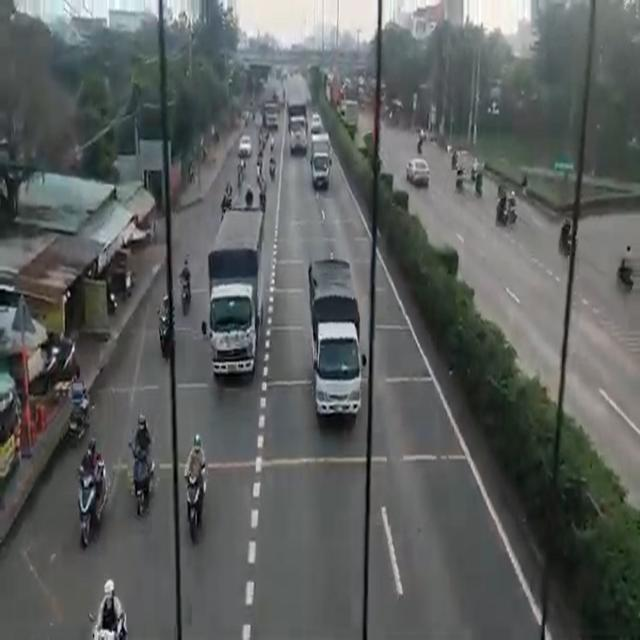motor: (130, 415, 154, 522), (93, 577, 127, 640), (76, 445, 96, 551), (185, 437, 202, 542), (156, 291, 171, 370), (178, 246, 193, 319)
truck: (310, 257, 366, 422), (210, 206, 259, 382), (287, 101, 308, 156), (312, 137, 332, 189)
